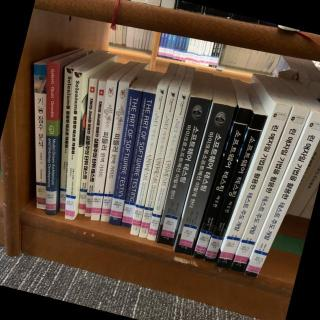book-spine: (226, 104, 310, 276), (239, 111, 320, 280), (214, 101, 291, 270), (169, 100, 236, 257), (201, 111, 267, 264), (191, 106, 252, 260), (152, 95, 211, 247), (145, 89, 190, 241), (136, 87, 179, 239), (128, 84, 168, 235), (116, 91, 156, 228), (106, 88, 142, 226), (98, 82, 129, 222), (89, 80, 117, 220), (75, 79, 98, 215), (84, 81, 106, 217), (64, 71, 83, 219), (42, 61, 59, 215), (56, 68, 73, 212), (33, 63, 46, 209)
